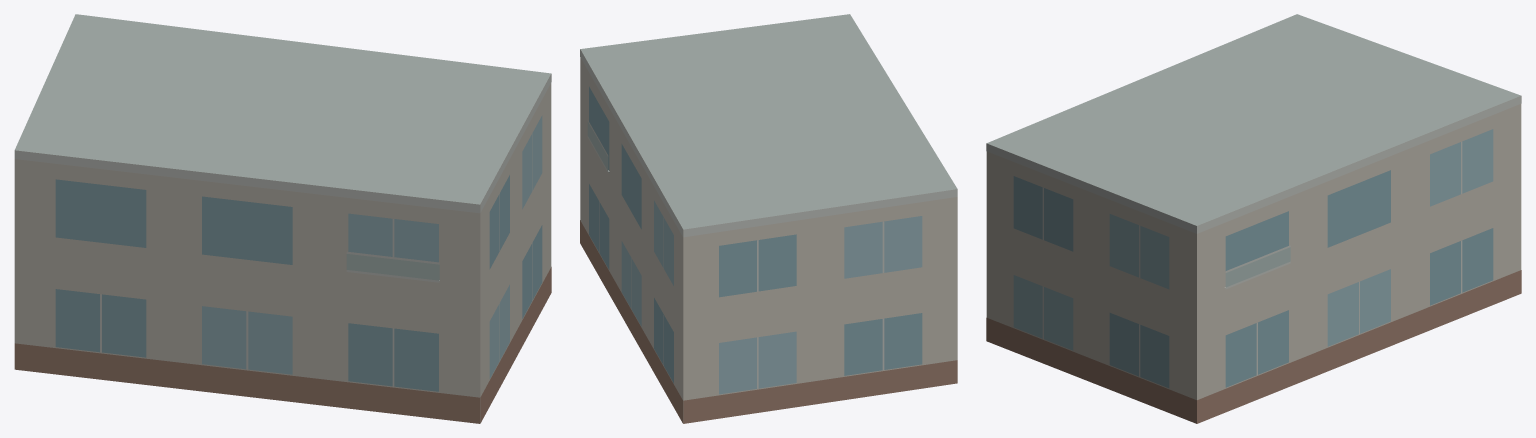
Rendered from survey-upis-32649313.glb.
3 renders of one model, left to right at view 1: azimuth 30°, elevation 25°; view 2: azimuth 150°, elevation 25°; view 3: azimuth 270°, elevation 25°, orthographic. The views are drawn at different scales.
Parts seen in each view (by area): view 1: survey-upis-32649313.tmp; view 2: survey-upis-32649313.tmp; view 3: survey-upis-32649313.tmp.
Part boxes in pixels (x1,y1,x2,y2): survey-upis-32649313.tmp: [14, 14, 551, 423]; survey-upis-32649313.tmp: [580, 14, 957, 423]; survey-upis-32649313.tmp: [986, 14, 1521, 423].
Size of the model in its own units: 14.03 by 6.1 by 14.96.
